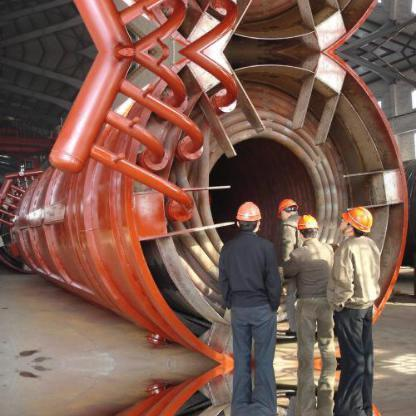helmet: (341, 203, 375, 235), (234, 198, 265, 228), (274, 195, 300, 221), (294, 213, 323, 236)
